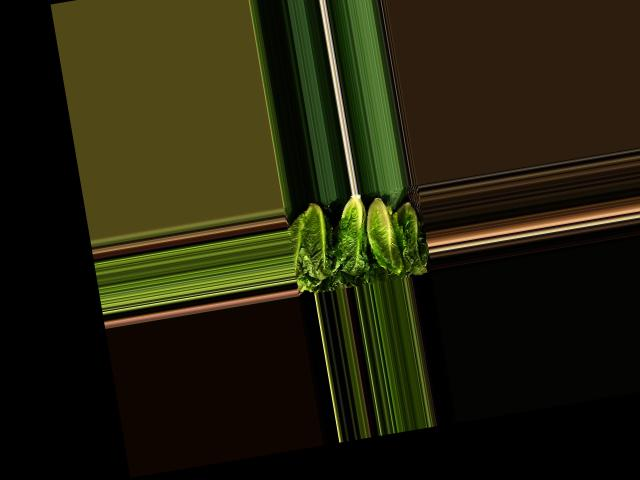lettuce: (393, 203, 426, 277)
